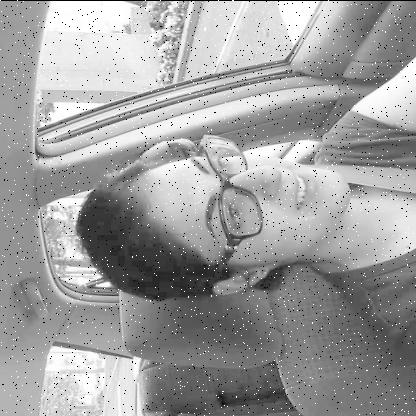seatbelt: (65, 132, 416, 297)
